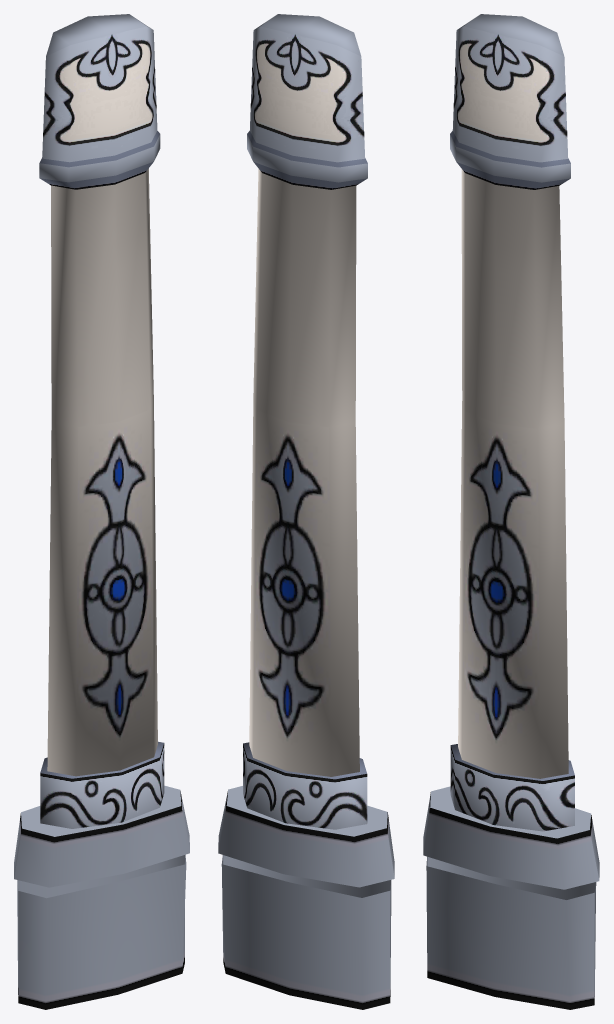
Rendered from daobing_blue_001.fbx.
3 renders of one model, left to right at view 1: azimuth 30°, elevation 25°; view 2: azimuth 150°, elevation 25°; view 3: azimuth 330°, elevation 25°, orthographic.
Visible parts, largest first — view 1: daobing_blue_001; view 2: daobing_blue_001; view 3: daobing_blue_001.
Part boxes in pixels (box(x1,y1,x2,y2)): daobing_blue_001: box(14, 14, 189, 1009); daobing_blue_001: box(218, 14, 394, 1009); daobing_blue_001: box(423, 14, 599, 1009).
Bounding box in the file's own units: 0.1069 × 0.5559 × 0.0473.
1 material, 1 textured.
